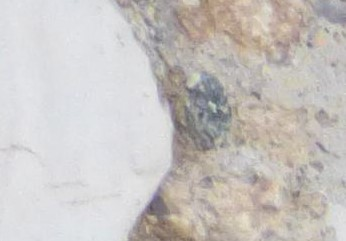Spalling: (112, 1, 346, 241)
